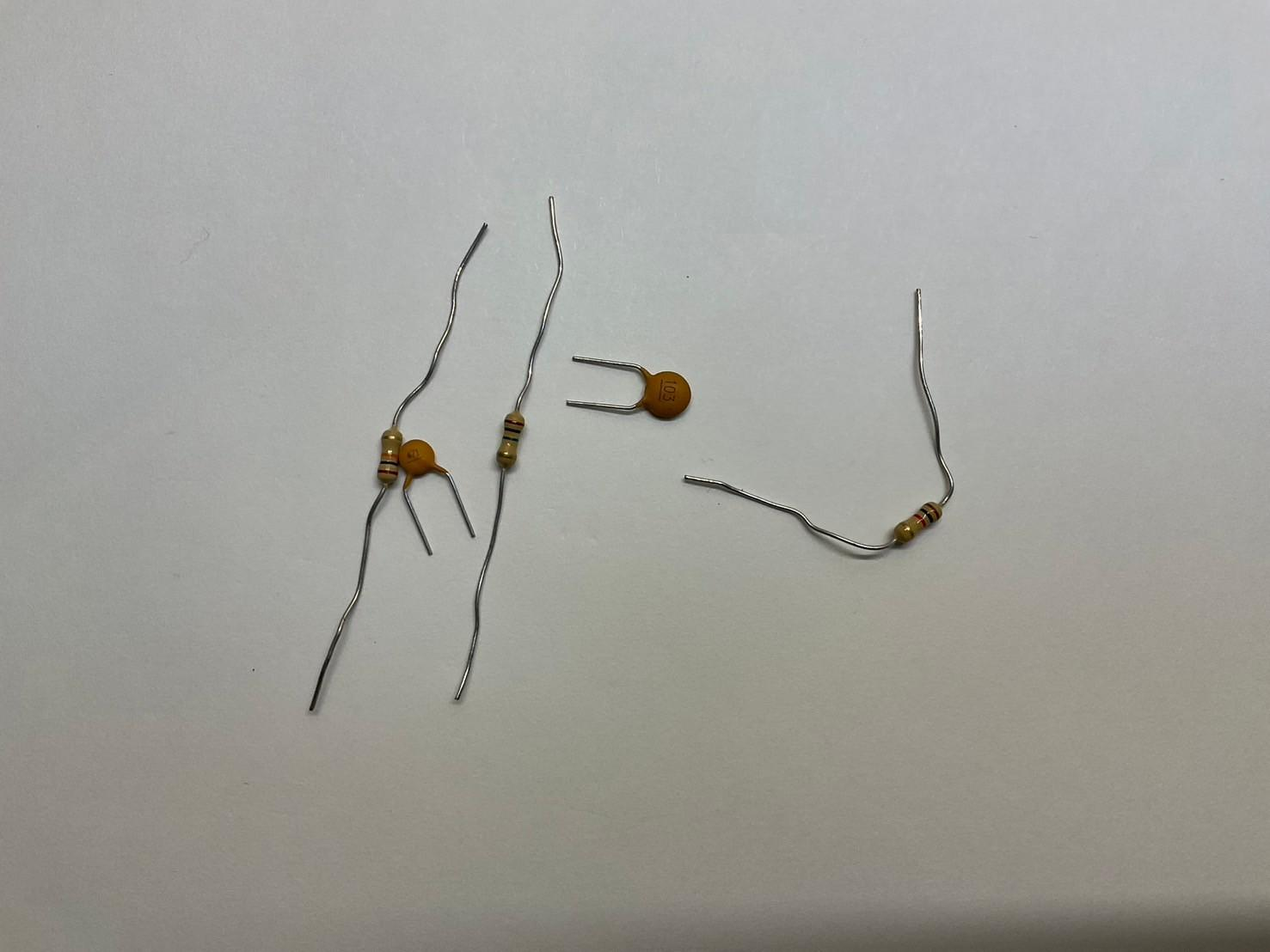resistor: (891, 501, 945, 547), (493, 412, 524, 471), (376, 431, 404, 486)
